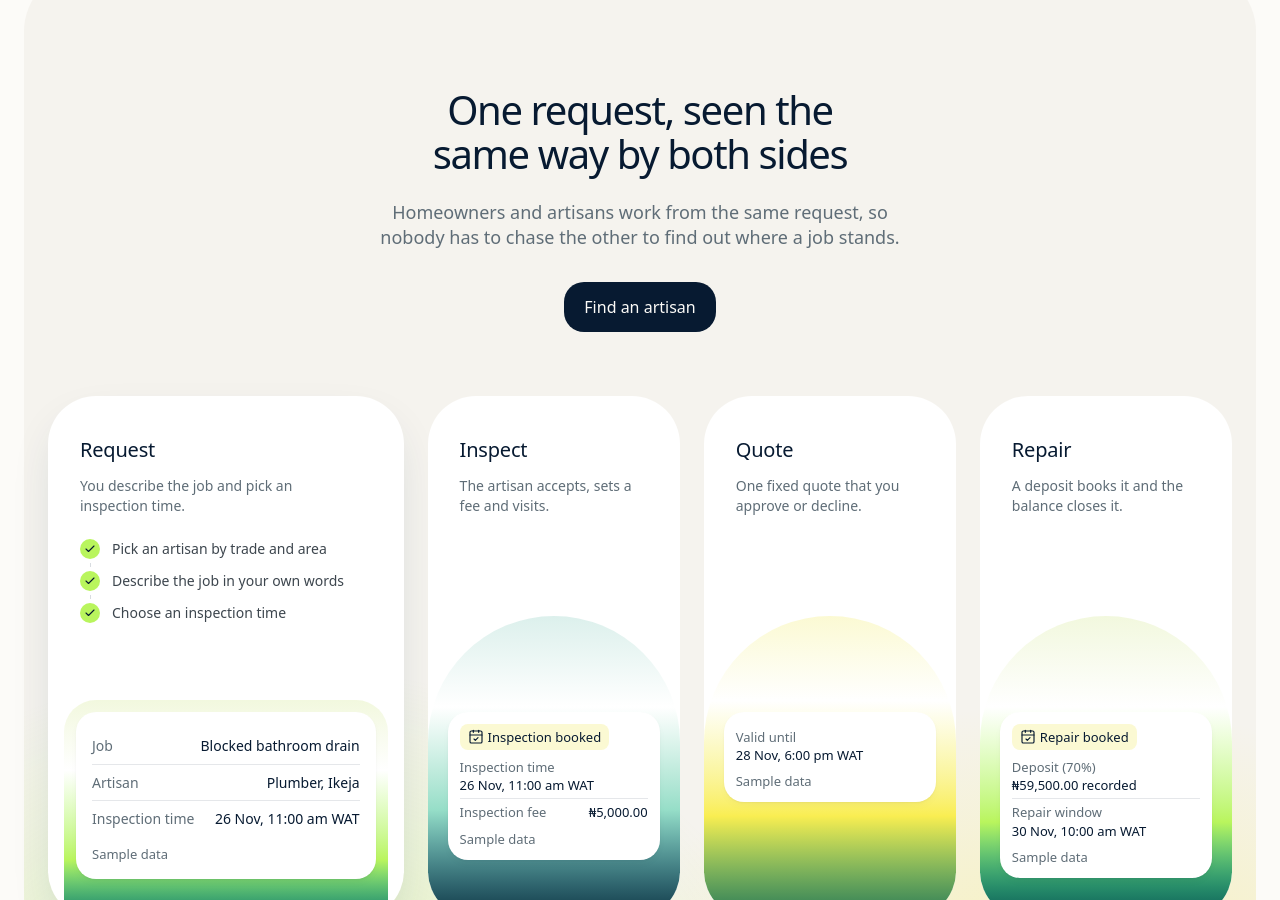
Scenario: stage cards: clicking Quote expands it and collapses the first
(page scrolled)
Click the button "Quote" at (830, 450), box [736,428,924,472]
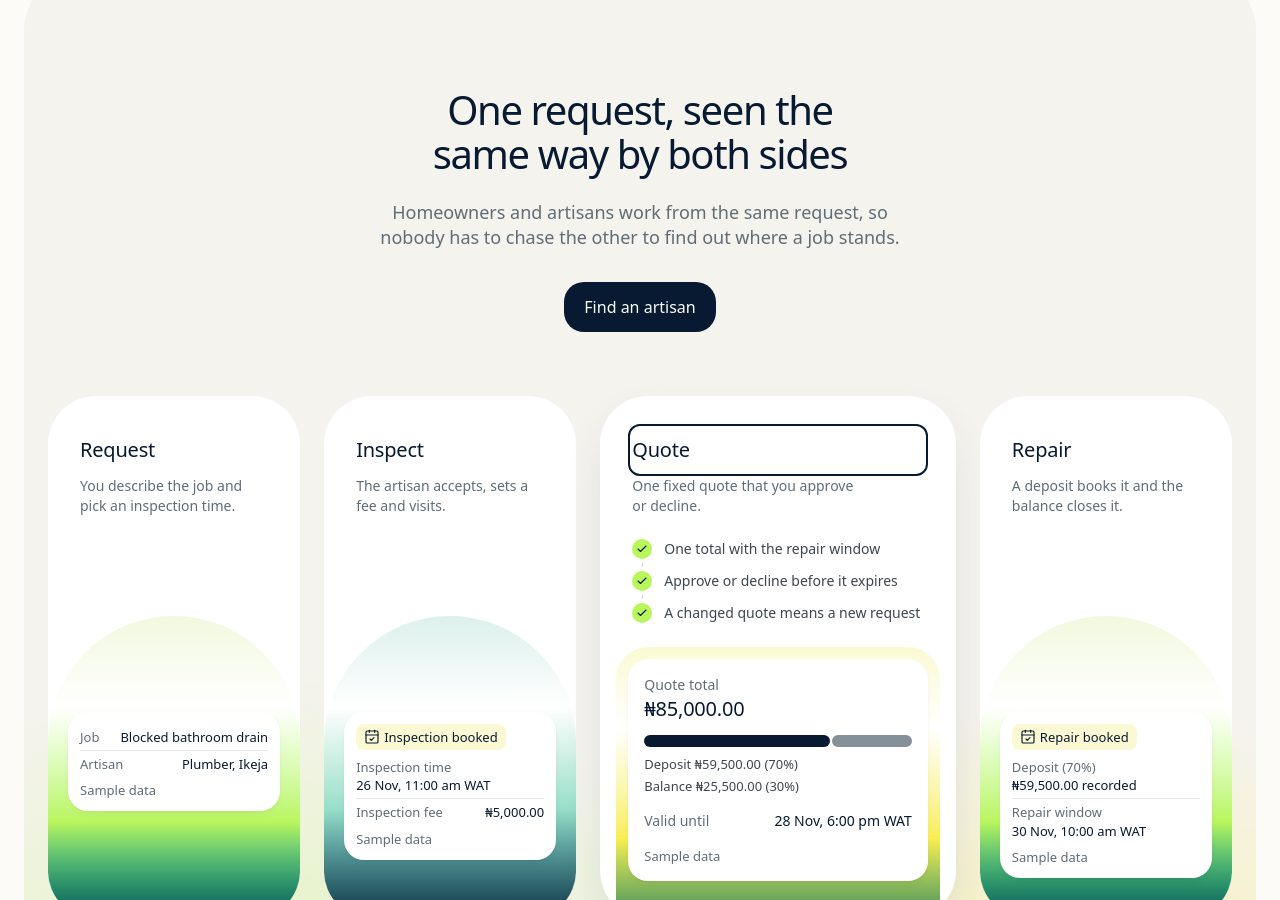
Expected: the button "Quote" is expanded, [632,428,924,472]
